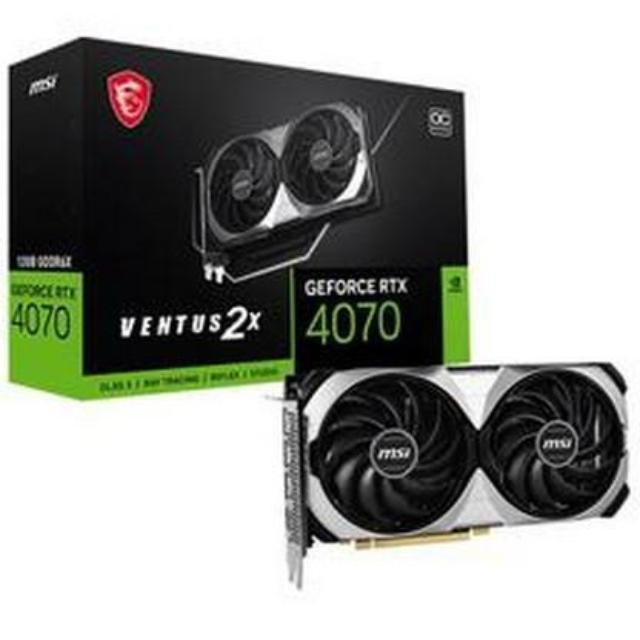GPU: (274, 358, 634, 550)
